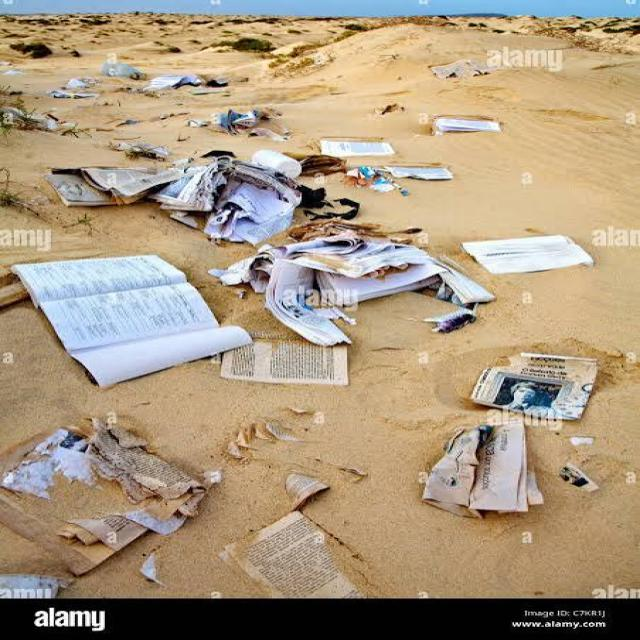paper: (196, 226, 482, 358), (0, 255, 257, 389), (52, 151, 352, 238), (462, 343, 640, 446), (462, 219, 625, 304), (215, 330, 398, 404), (279, 116, 459, 184), (131, 50, 221, 98)
